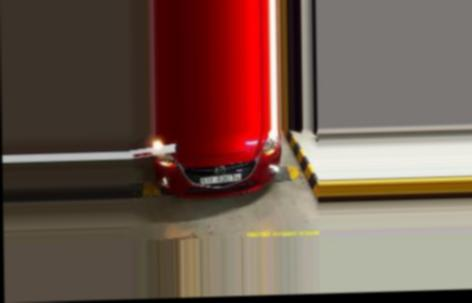License_Plate: (200, 172, 243, 185)
